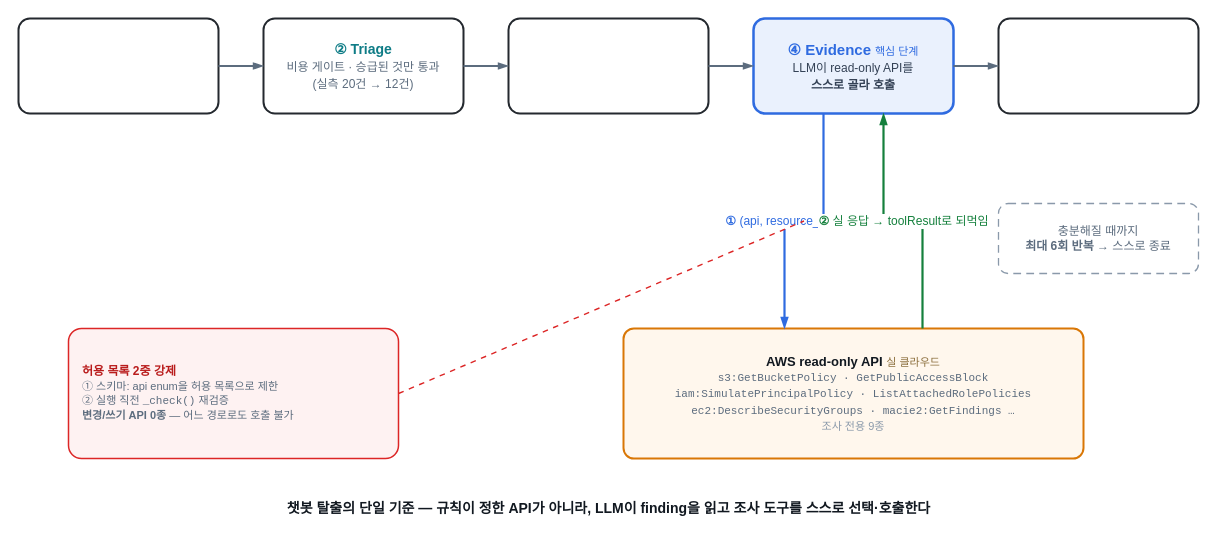
This 1216x546 diagram has some shape labels left out. The centre of each missing label's shape, as x and y in pixels:
① Orchestrator 루프 지휘 · 케이스 조립·저장: point (118, 65)
③ Hypothesis 검증 가능한 공격 가설 생성: point (608, 65)
⑤ Reasoning 근거 기반 판정 + 한국어 내러티브: point (1098, 65)
